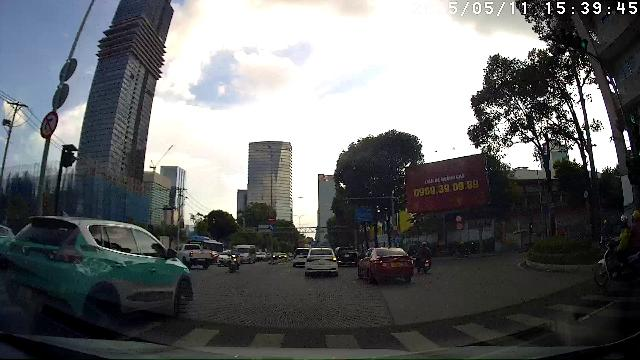103b-cam-oto-re-phai: (40, 111, 58, 139)
